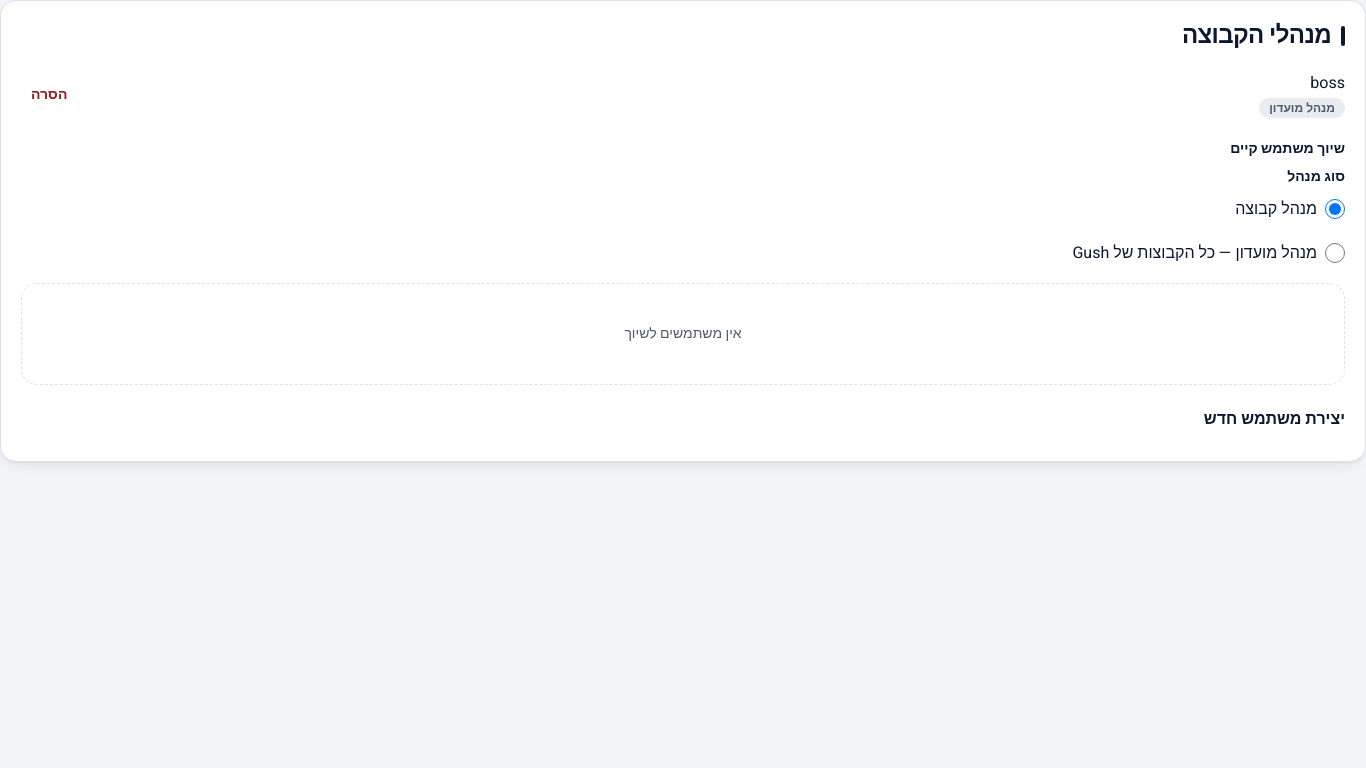
Scenario: TeamAdminsSection › remove sends scope and keeps account wording
Click the button "הסרה" at coordinates (49, 95), box [21,73,77,117]
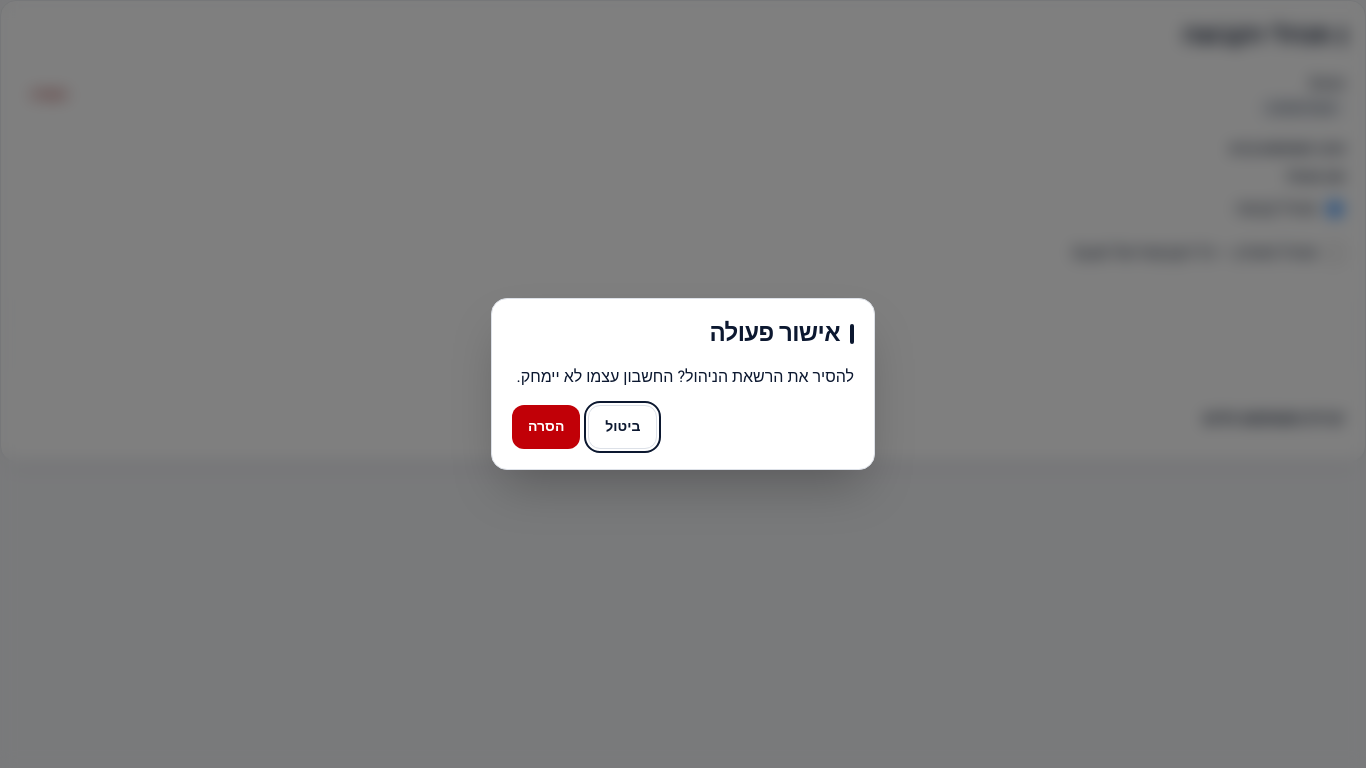
Check: the text "החשבון עצמו לא יימחק" is shown, box [516,365,854,389]
Click the button "הסרה" at coordinates (546, 427), box [512,405,580,449]
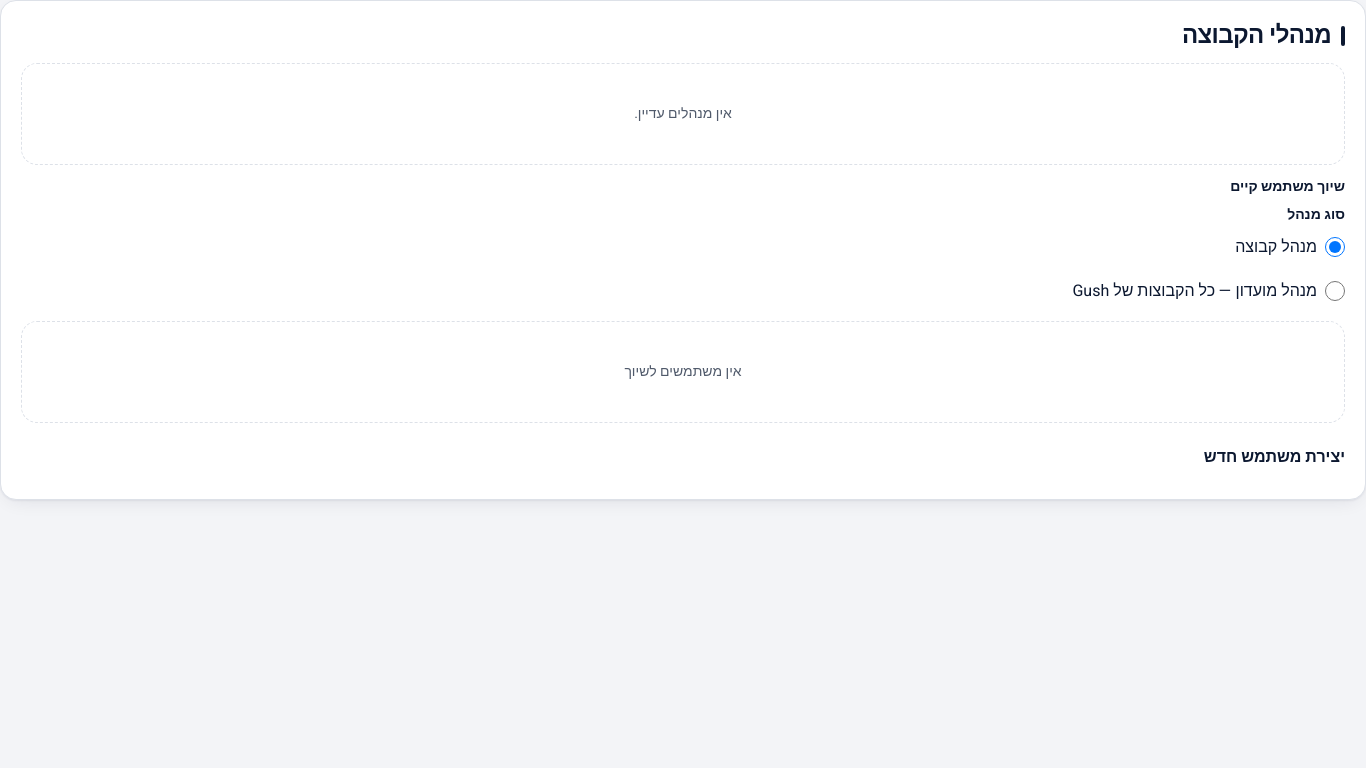
Check: the text "boss" is gone
